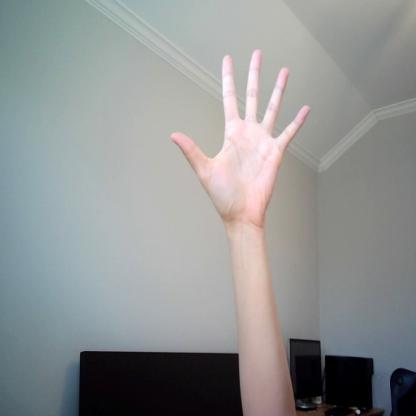five: (165, 47, 313, 224)
